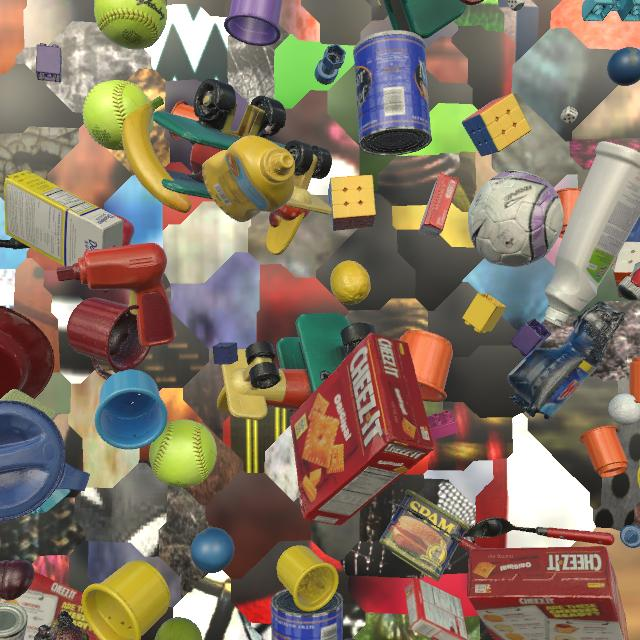ycb_002_master_chef_can: (353, 30, 432, 156), (271, 589, 343, 640)
ycb_003_cracker_box: (290, 333, 435, 526), (467, 546, 628, 640), (0, 572, 100, 640)
ycb_004_sugar_box: (4, 170, 124, 267)
ycb_005_tomato_soup_can: (0, 602, 28, 640)
ycb_006_mustard_bottle: (202, 135, 295, 222)
ycb_009_gelatin_box: (404, 577, 468, 640), (418, 173, 459, 239)
ycb_010_potted_meat_can: (379, 490, 469, 581)
ycb_011_banana: (122, 96, 192, 213)
ycb_013_apple: (110, 213, 135, 246)
ycb_014_lemon: (330, 261, 371, 305)
ycb_016_pear: (154, 617, 202, 640)
ycb_018_plum: (0, 559, 35, 600)
